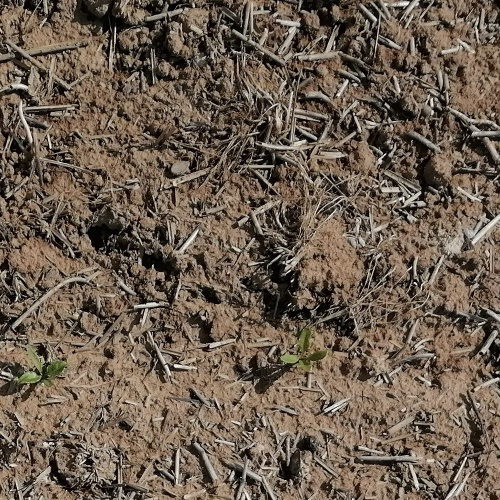beet: (281, 328, 327, 374), (19, 344, 67, 385)
